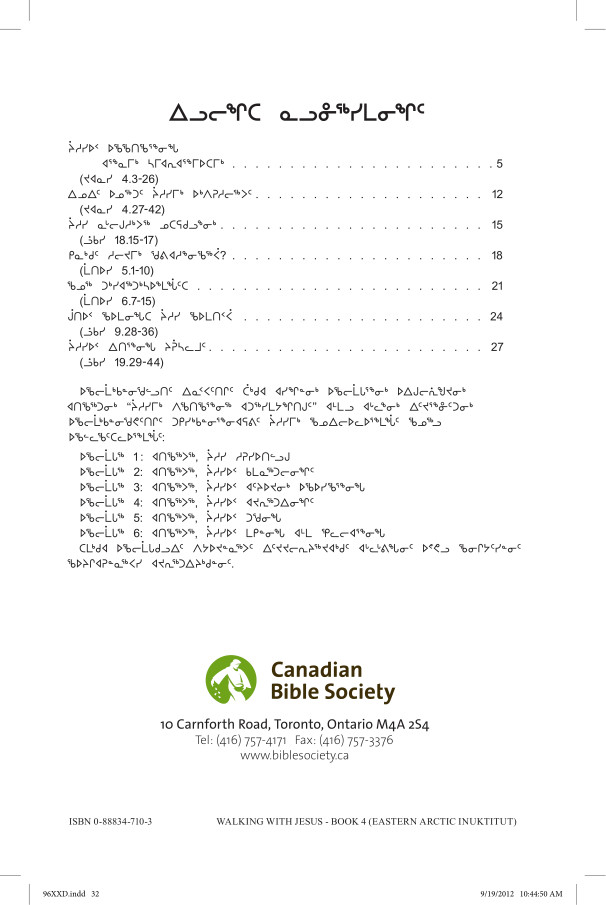inuktitut: (60, 379, 531, 575), (59, 130, 264, 370), (160, 93, 426, 129)
latin: (152, 715, 431, 768), (263, 651, 398, 705)
